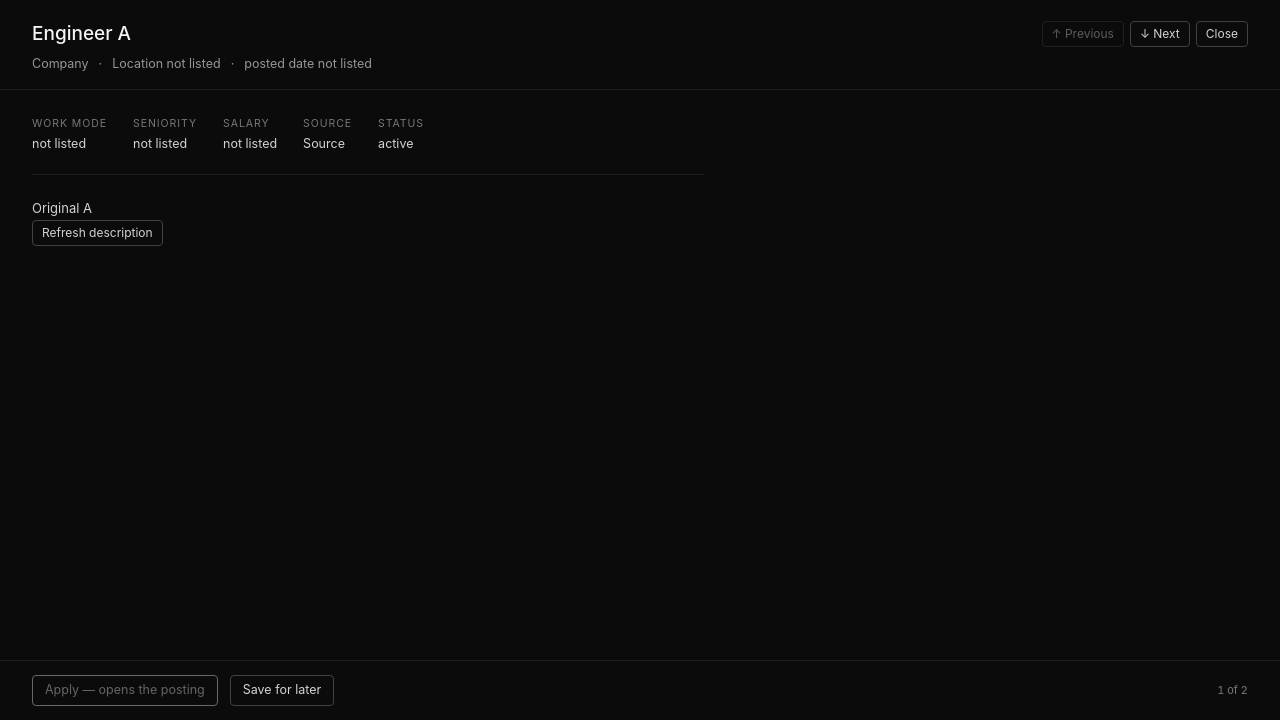
Test case: late refresh results cannot overwrite the next job's description
Click the button "Refresh description".
click(97, 232)  # box [32,220,163,246]
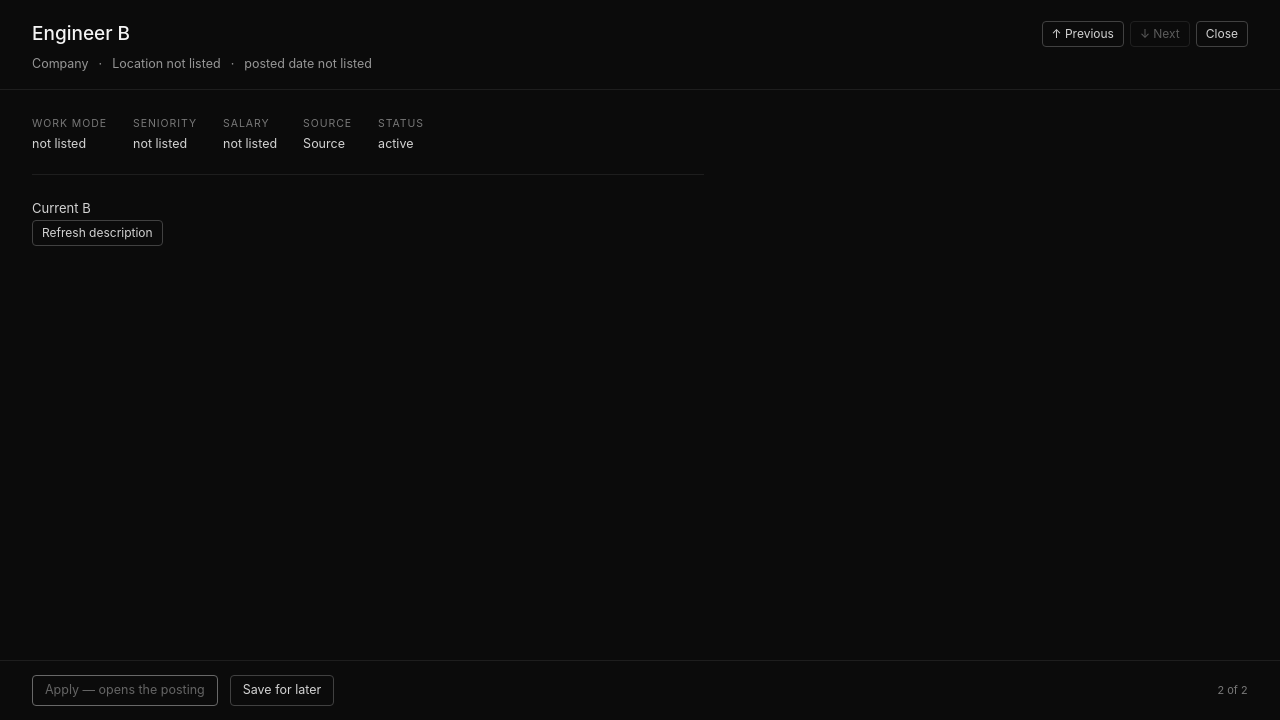
Result: the text "Current B" is shown at [32,200,91,216]
